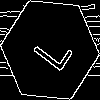L: (25, 25, 74, 74)
